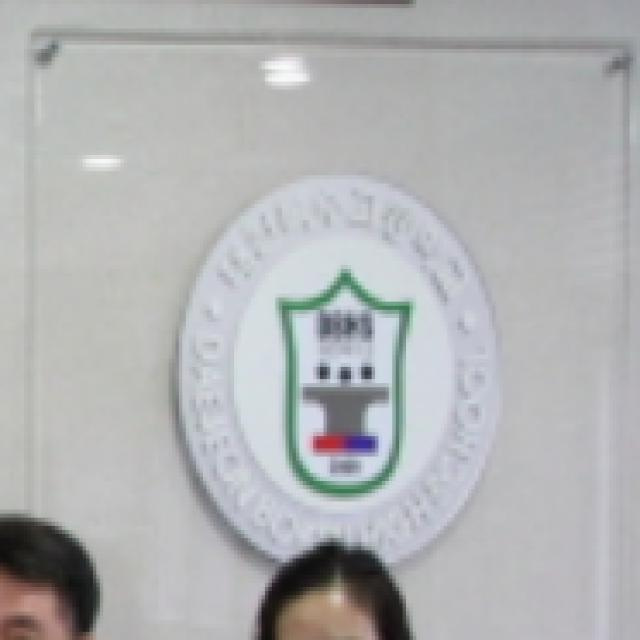logo: (160, 156, 517, 584)
